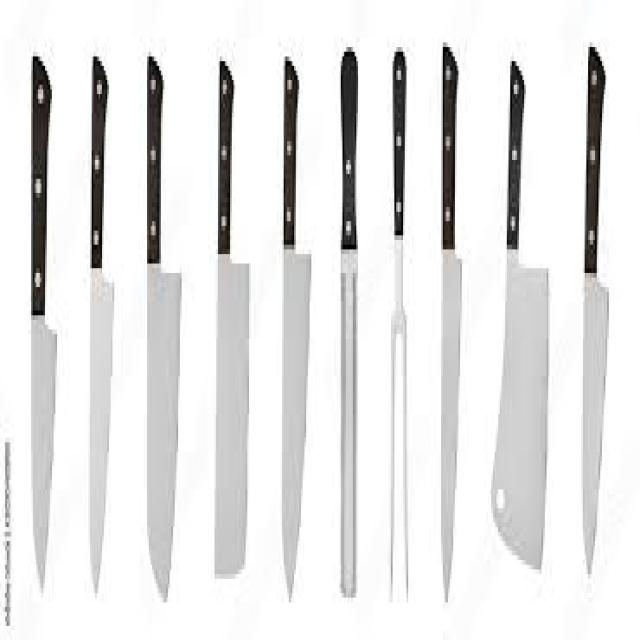Knife: (489, 57, 548, 570), (145, 52, 180, 598), (213, 57, 249, 574), (280, 52, 310, 598), (581, 42, 609, 570), (30, 52, 56, 588), (89, 52, 112, 588), (439, 42, 460, 598), (389, 47, 408, 598), (339, 47, 358, 593)
